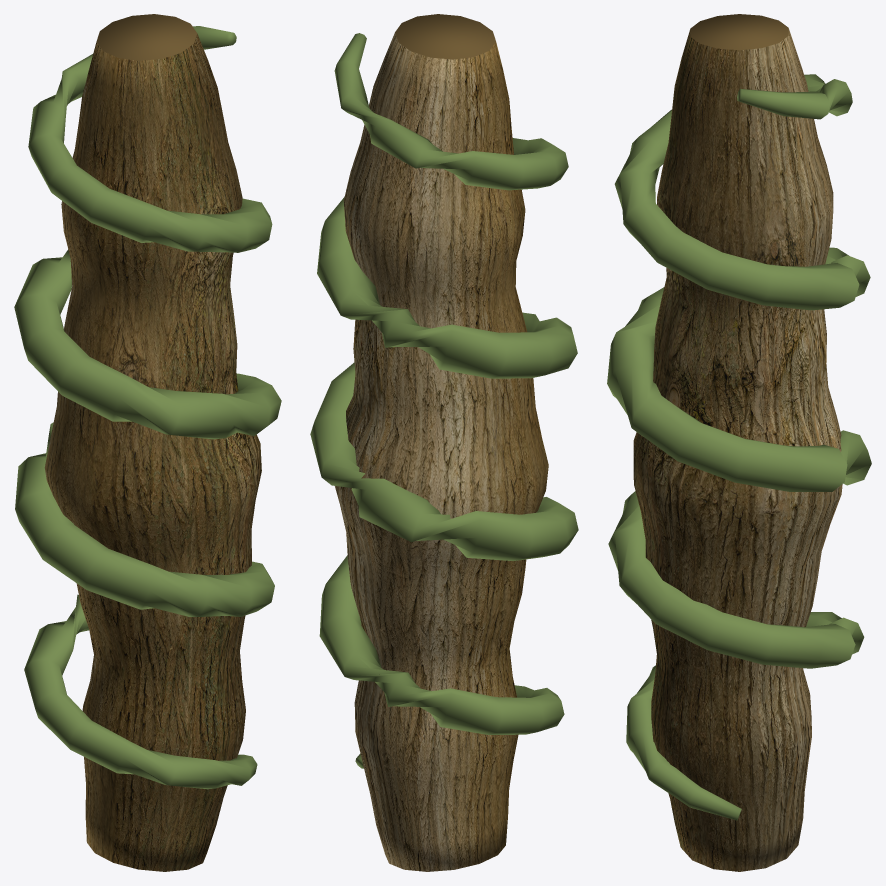
File: root_lash.glb
The picture shows the model from 3 angles, left to right: view 1: azimuth 30°, elevation 25°; view 2: azimuth 150°, elevation 25°; view 3: azimuth 270°, elevation 25°; orthographic projection.
Parts seen in each view (by area): view 1: RootLashGrip; view 2: RootLashGrip; view 3: RootLashGrip.
Boxes of the visible parts, x1,y1,x2,y2 form: RootLashGrip: (14,14,281,871); RootLashGrip: (310,14,578,871); RootLashGrip: (607,14,871,871).
Bounding box in the file's own units: 0.1109 × 0.3749 × 0.1101.
2 materials, 1 textured.
